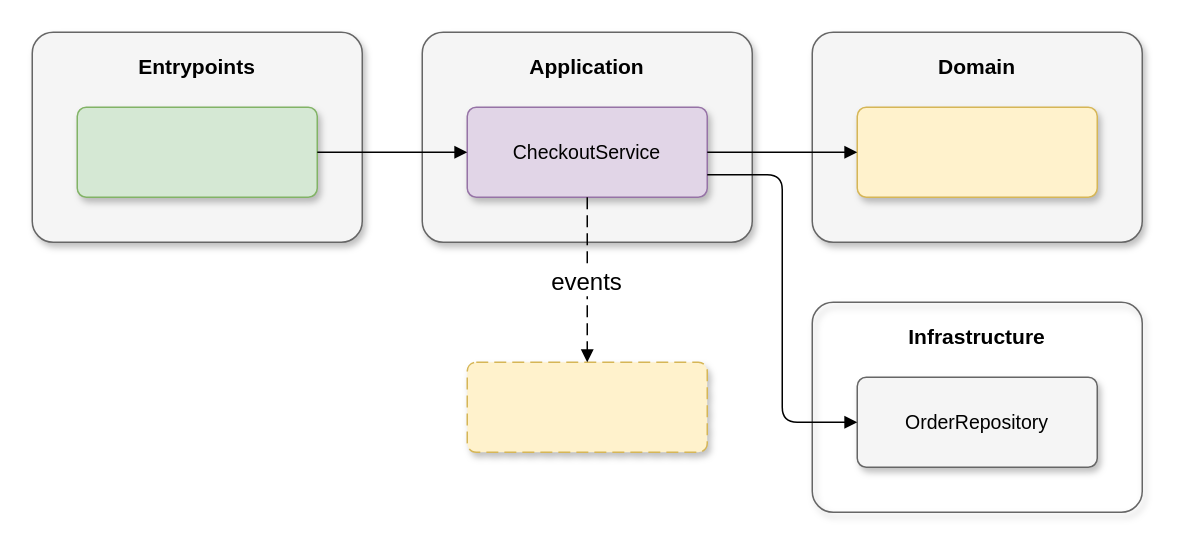
Some shapes in this 1178 by 549 pixel diagram are drawn without their labels. Each missing label, with the centre of its shape:
"CheckoutResource" belongs at pixel 198 154.
"Message Broker" belongs at pixel 588 409.
"Order" belongs at pixel 978 154.
